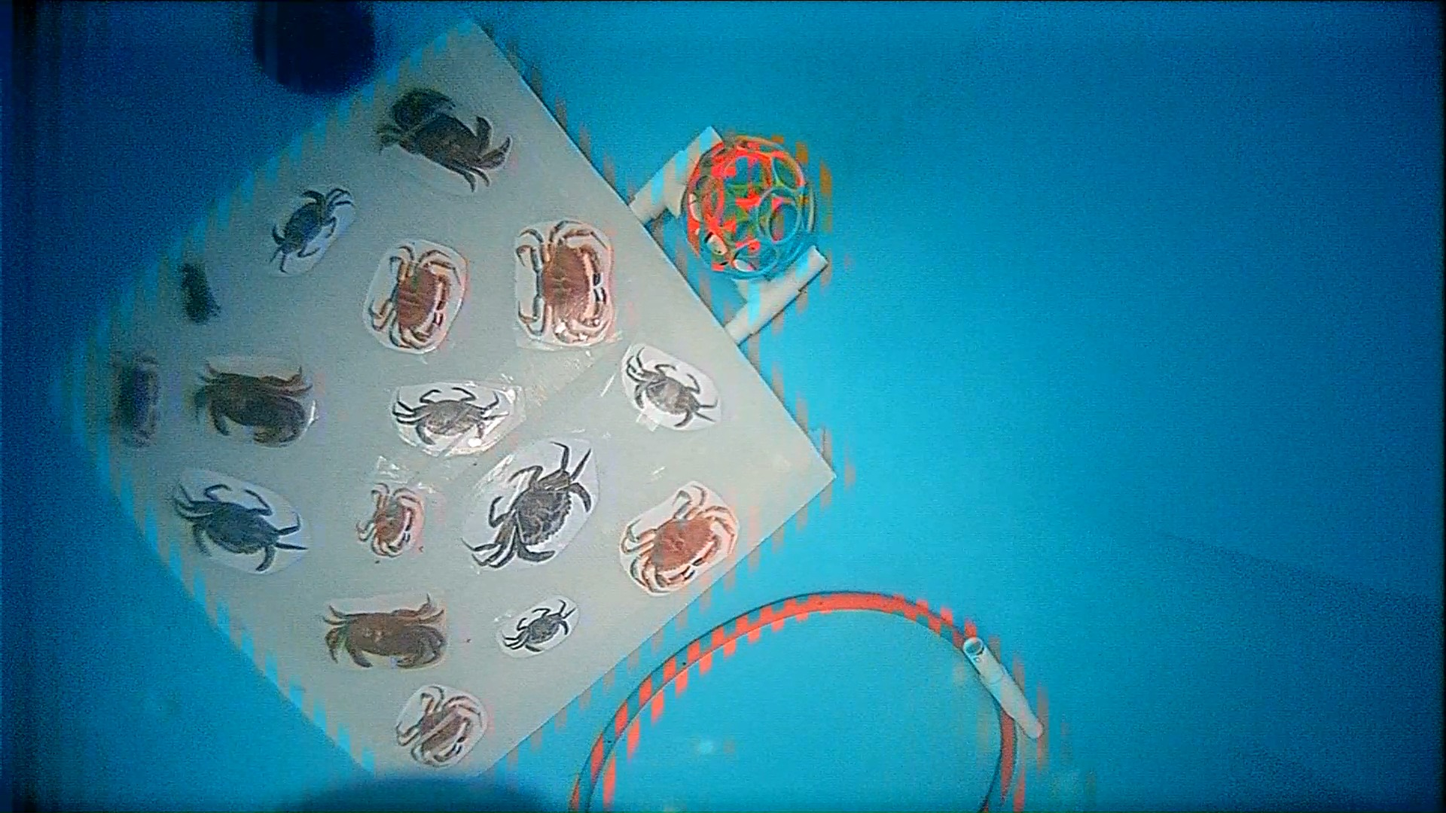GreenCrab: (471, 442, 591, 568), (175, 483, 307, 572), (626, 351, 717, 427), (272, 188, 350, 273), (393, 387, 499, 444)
